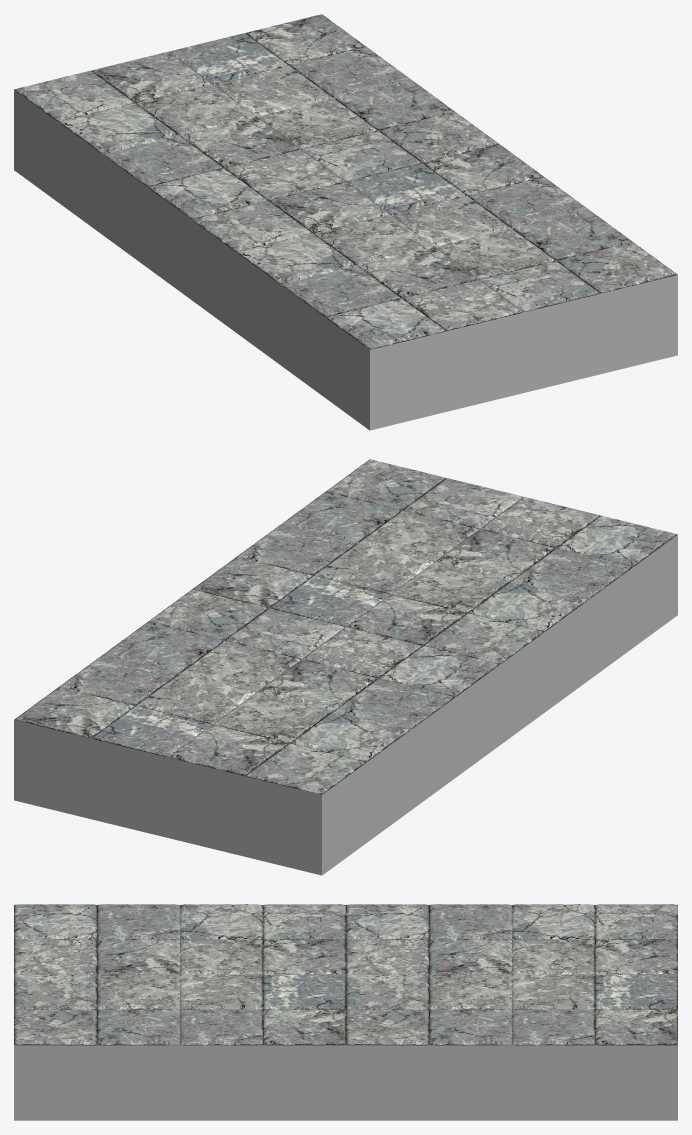
Rendered from Floor_half_1m.gltf.
The picture shows the model from 3 angles, top to bottom: view 1: azimuth 30°, elevation 25°; view 2: azimuth 150°, elevation 25°; view 3: azimuth 270°, elevation 25°; orthographic projection. The views are drawn at different scales.
Visible parts, largest first — view 1: Floor_half_1m; view 2: Floor_half_1m; view 3: Floor_half_1m.
Boxes of the visible parts, box(x1,y1,x2,y2) form: Floor_half_1m: box(14, 14, 677, 430); Floor_half_1m: box(14, 459, 677, 875); Floor_half_1m: box(14, 904, 677, 1120).
Bounding box in the file's own units: 4 × 1.03 × 8.
